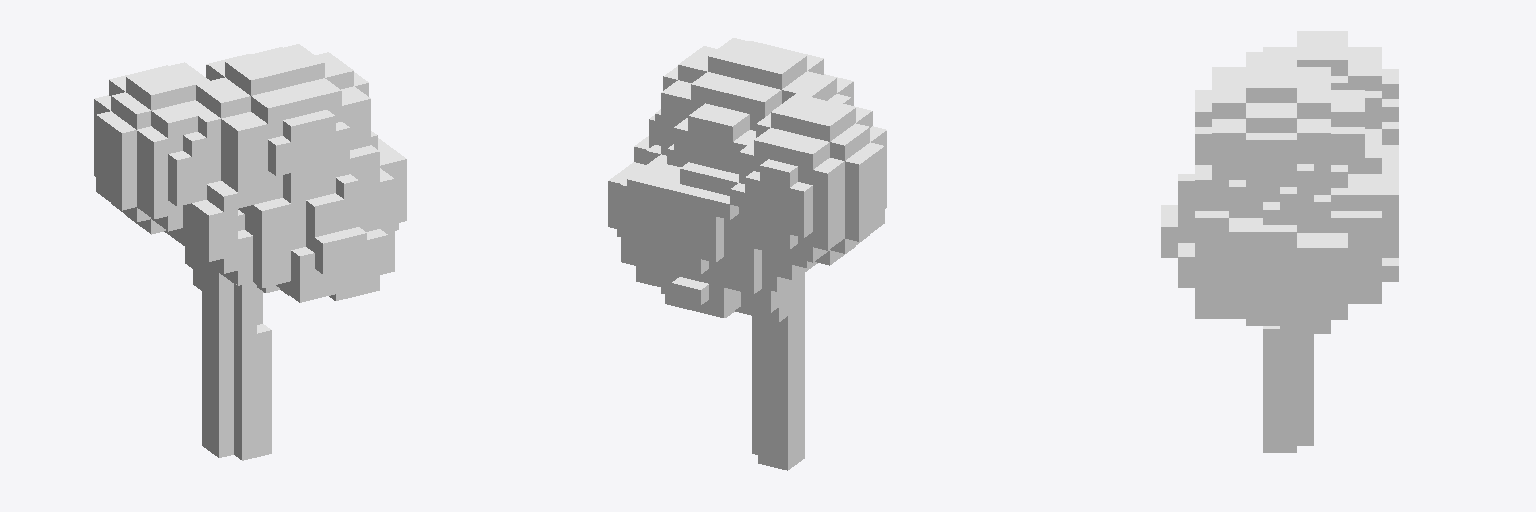
File: realTree.vox.obj
The picture shows the model from 3 angles: view 1: azimuth 30°, elevation 25°; view 2: azimuth 150°, elevation 25°; view 3: azimuth 270°, elevation 25°; orthographic projection.
Parts seen in each view (by area): view 1: object 1; view 2: object 1; view 3: object 1.
Boxes of the visible parts, x1=… form: object 1: x1=94, y1=44, x2=406, y2=460; object 1: x1=608, y1=38, x2=886, y2=470; object 1: x1=1161, y1=31, x2=1398, y2=452.
Bounding box in the file's own units: 1.7 × 2.5 × 1.4.